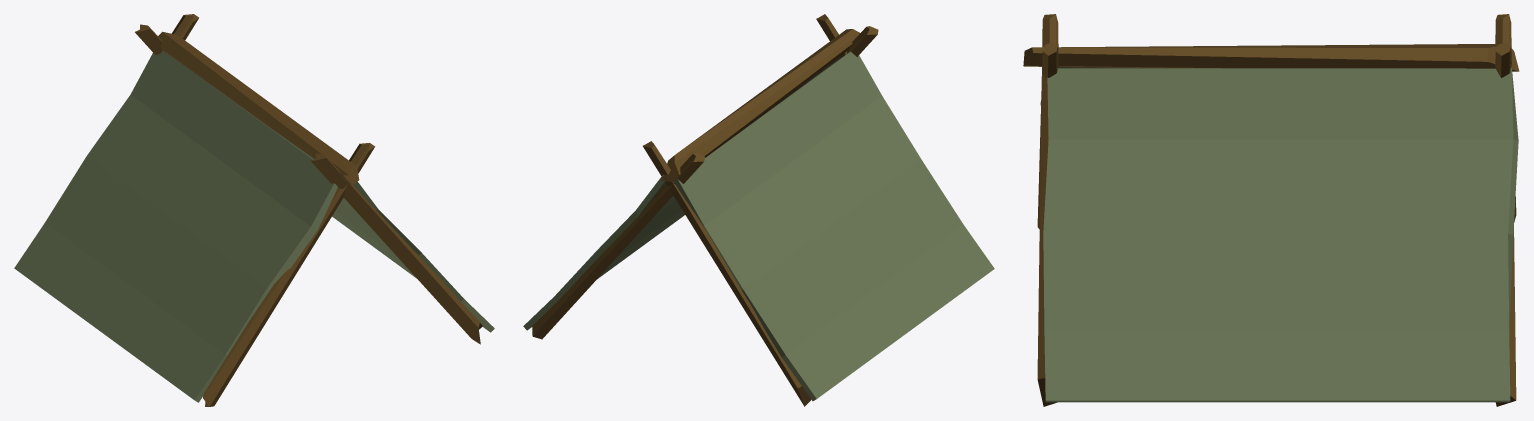
Rendered from tent3d.glb.
3 renders of one model, left to right at view 1: azimuth 30°, elevation 25°; view 2: azimuth 150°, elevation 25°; view 3: azimuth 270°, elevation 25°, orthographic. The views are drawn at different scales.
Parts seen in each view (by area): view 1: T.L, T, F.R, F.L, T.R, B.R; view 2: T.L, T, B.R, T.R, B.L, F.R; view 3: T.R, T, F.R, B.R, F.L, B.L.
Part boxes in pixels (x1=…): T.L: x1=14, y1=50, x2=337, y2=402; T: x1=158, y1=31, x2=359, y2=185; F.R: x1=311, y1=153, x2=482, y2=344; F.L: x1=203, y1=143, x2=375, y2=406; T.R: x1=272, y1=129, x2=494, y2=332; B.R: x1=135, y1=24, x2=162, y2=54; T.L: x1=674, y1=51, x2=994, y2=401; T: x1=661, y1=29, x2=859, y2=182; B.R: x1=532, y1=153, x2=704, y2=339; T.R: x1=523, y1=61, x2=834, y2=330; B.L: x1=643, y1=141, x2=811, y2=406; F.R: x1=833, y1=26, x2=878, y2=63; T.R: x1=1043, y1=68, x2=1518, y2=402; T: x1=1023, y1=44, x2=1519, y2=71; F.R: x1=1037, y1=14, x2=1058, y2=406; B.R: x1=1495, y1=14, x2=1516, y2=406; F.L: x1=1037, y1=42, x2=1058, y2=228; B.L: x1=1495, y1=42, x2=1516, y2=222.
Bounding box in the file's own units: 7.65 × 5.55 × 8.54.
